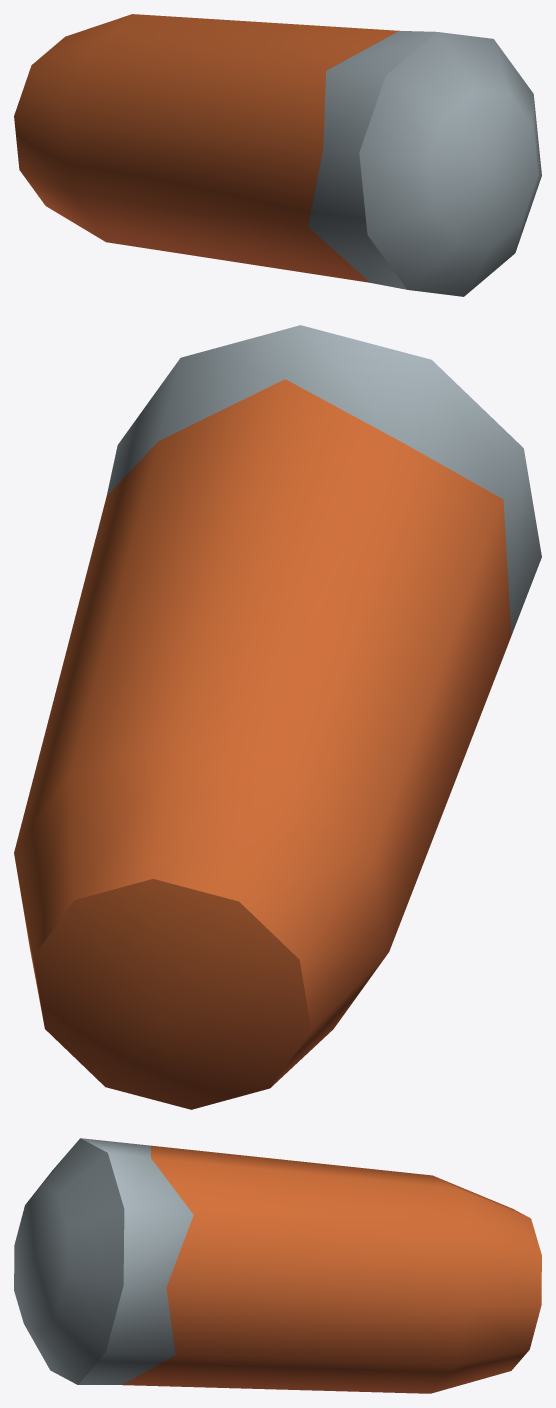
The model's file is ActionFigure_Head_D_Cigar.obj.
The picture shows the model from 3 angles, top to bottom: view 1: azimuth 30°, elevation 25°; view 2: azimuth 150°, elevation 25°; view 3: azimuth 270°, elevation 25°; orthographic projection. The views are drawn at different scales.
Visible parts, largest first — view 1: ActionFigure_Head_D_Cigar; view 2: ActionFigure_Head_D_Cigar; view 3: ActionFigure_Head_D_Cigar.
Boxes of the visible parts, x1,y1,x2,y2 form: ActionFigure_Head_D_Cigar: [14, 14, 541, 296]; ActionFigure_Head_D_Cigar: [14, 325, 541, 1109]; ActionFigure_Head_D_Cigar: [14, 1138, 541, 1393].
Size of the model in its own units: 0.1581 by 0.1462 by 0.2495.
1 material, 1 textured.
